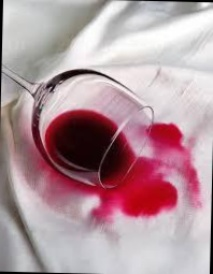wine: (40, 150, 179, 214), (141, 120, 198, 211)
